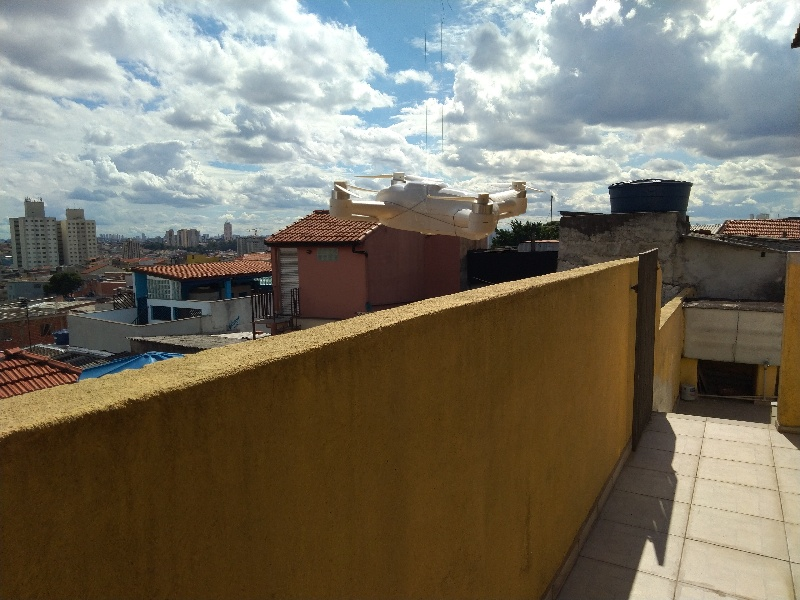drone: (321, 164, 537, 247)
